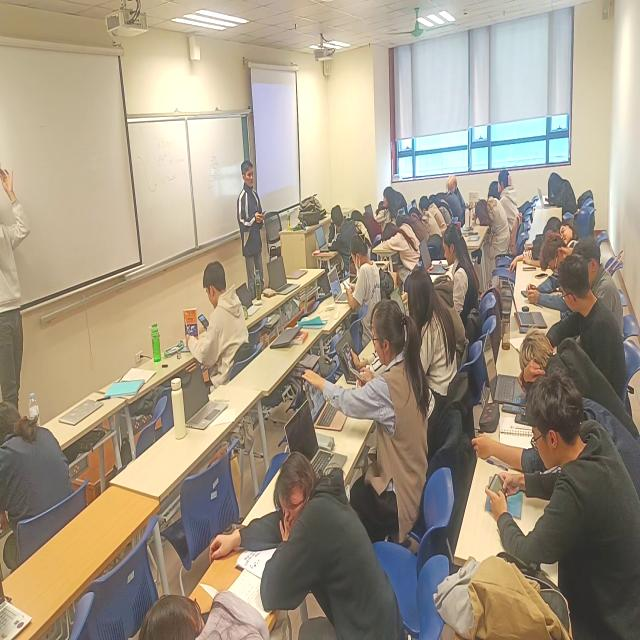raise_head: (376, 186, 400, 240)
sleep: (245, 427, 404, 640), (517, 329, 640, 447), (136, 576, 269, 640), (475, 196, 512, 261), (380, 221, 423, 274), (408, 204, 445, 248), (352, 209, 383, 254), (419, 195, 448, 239), (397, 212, 430, 250), (346, 217, 374, 255), (520, 236, 550, 270), (430, 194, 456, 230), (439, 190, 463, 226), (557, 216, 581, 249), (543, 214, 565, 241), (393, 189, 409, 218), (489, 180, 503, 209), (378, 201, 388, 216)
stand: (1, 160, 37, 418), (232, 158, 270, 305)
using_phone: (478, 353, 640, 605), (181, 254, 256, 400), (341, 231, 384, 331), (546, 171, 580, 221)
